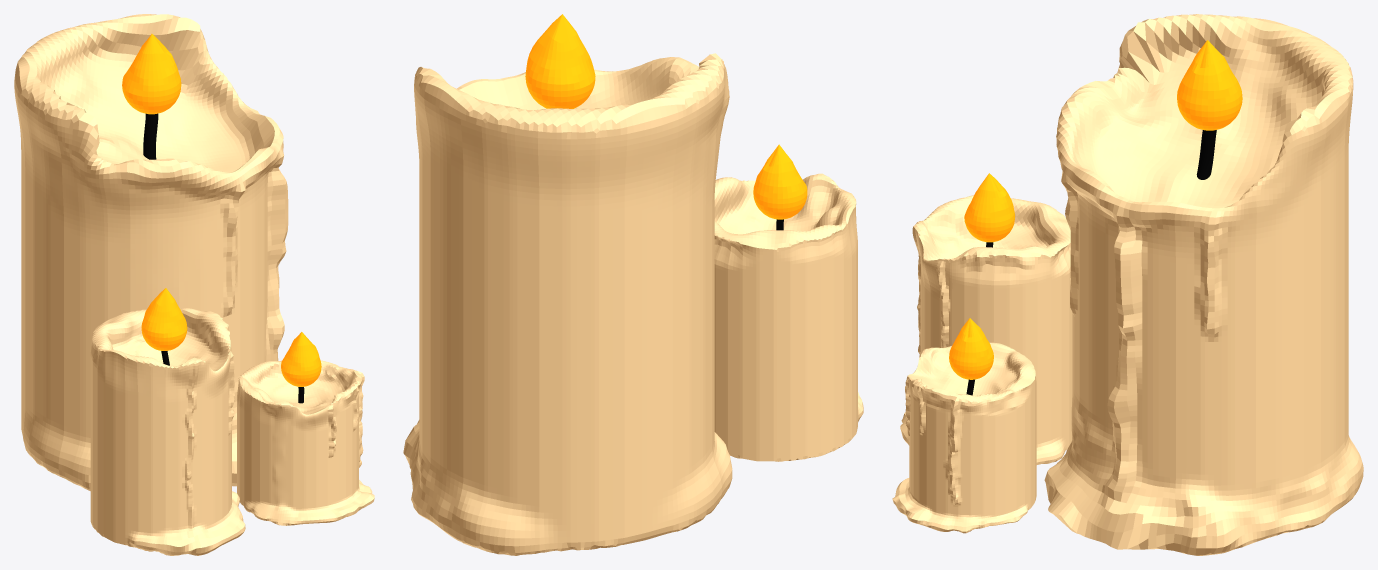
Rendered from FloorCandle1.glb.
The picture shows the model from 3 angles, left to right: view 1: azimuth 30°, elevation 25°; view 2: azimuth 150°, elevation 25°; view 3: azimuth 270°, elevation 25°; orthographic projection. The views are drawn at different scales.
Parts seen in each view (by area): view 1: Circle, Cylinder, Cylinder.001, Sphere, Sphere.001, Sphere.002, BezierCurve; view 2: Circle, Cylinder, Sphere, Sphere.001; view 3: Circle, Cylinder, Cylinder.001, Sphere, Sphere.001, Sphere.002, BezierCurve.
Part boxes in pixels (bbox=[...]): Circle: bbox=[14, 14, 288, 490]; Cylinder: bbox=[90, 308, 245, 555]; Cylinder.001: bbox=[237, 360, 374, 525]; Sphere: bbox=[122, 34, 181, 114]; Sphere.001: bbox=[141, 288, 187, 350]; Sphere.002: bbox=[281, 332, 321, 386]; BezierCurve: bbox=[143, 113, 158, 159]; Circle: bbox=[403, 53, 732, 555]; Cylinder: bbox=[714, 173, 863, 461]; Sphere: bbox=[525, 14, 595, 108]; Sphere.001: bbox=[753, 144, 807, 219]; Circle: bbox=[1044, 14, 1363, 555]; Cylinder: bbox=[900, 195, 1072, 464]; Cylinder.001: bbox=[892, 342, 1036, 533]; Sphere: bbox=[1177, 40, 1242, 130]; Sphere.001: bbox=[964, 173, 1015, 242]; Sphere.002: bbox=[949, 318, 993, 379]; BezierCurve: bbox=[1196, 130, 1216, 179].
Size of the model in its own units: 0.2513 by 0.3596 by 0.3376.
